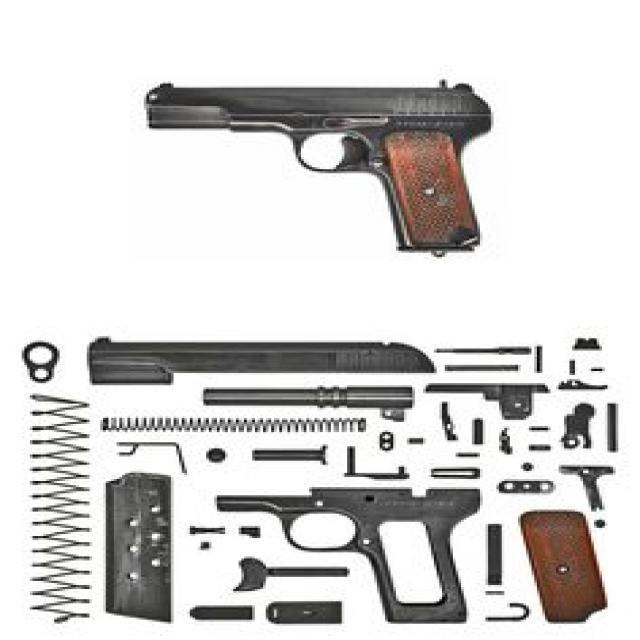semi automatic: (108, 54, 570, 301)
